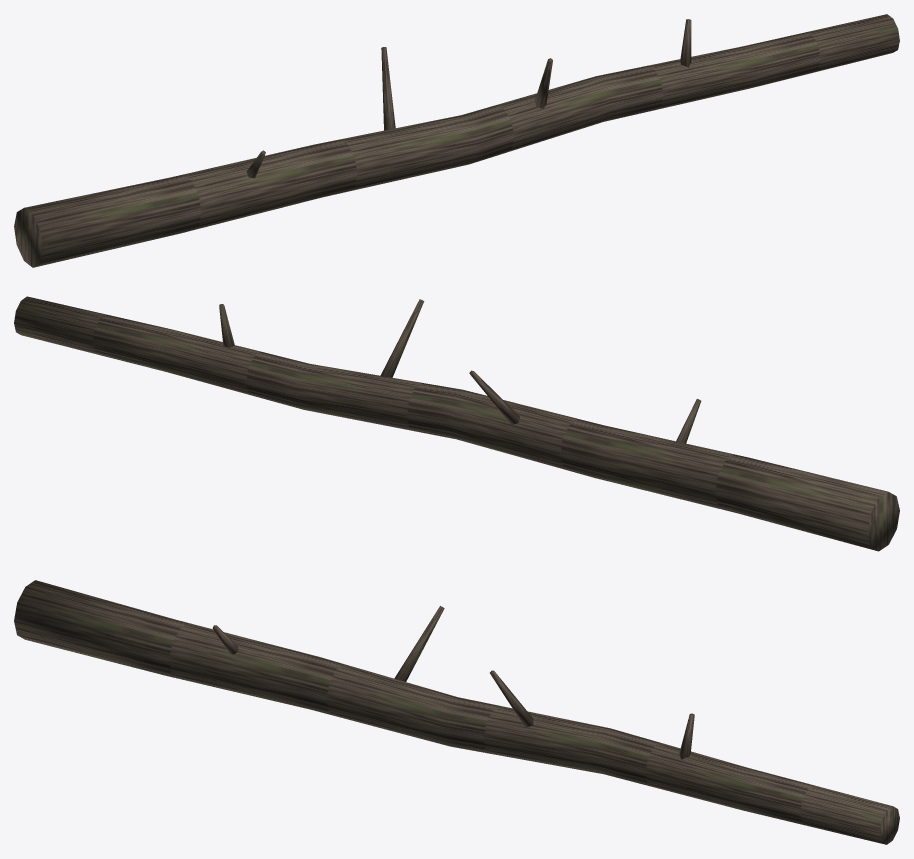
The model's file is Log_Fallen_2.gltf.
The picture shows the model from 3 angles, top to bottom: view 1: azimuth 30°, elevation 25°; view 2: azimuth 150°, elevation 25°; view 3: azimuth 330°, elevation 25°; orthographic projection.
Parts seen in each view (by area): view 1: Log_Fallen_2; view 2: Log_Fallen_2; view 3: Log_Fallen_2.
Boxes of the visible parts, left/top/right/bottom form: Log_Fallen_2: left=14, top=14, right=899, bottom=267; Log_Fallen_2: left=14, top=296, right=899, bottom=551; Log_Fallen_2: left=14, top=580, right=899, bottom=844.
Size of the model in its own units: 11.01 by 1.31 by 1.34.
Materials: 1 (1 with a texture image).
